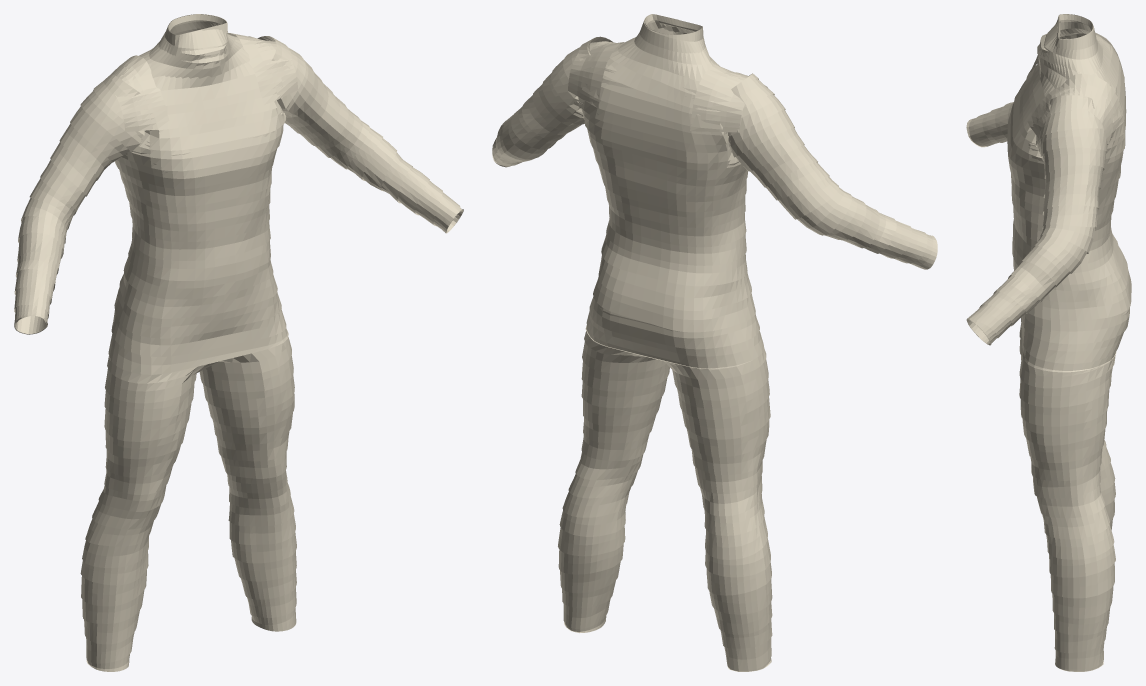
The model's file is ewb_mummy.glb.
The picture shows the model from 3 angles, left to right: view 1: azimuth 30°, elevation 25°; view 2: azimuth 150°, elevation 25°; view 3: azimuth 270°, elevation 25°; orthographic projection. The views are drawn at different scales.
Visible parts, largest first — view 1: ewb_mummy; view 2: ewb_mummy; view 3: ewb_mummy.
Part boxes in pixels (bbox=[...]): ewb_mummy: bbox=[14, 14, 463, 671]; ewb_mummy: bbox=[492, 14, 937, 671]; ewb_mummy: bbox=[966, 14, 1131, 671].
Bounding box in the file's own units: 1.11 × 1.47 × 0.3688.
